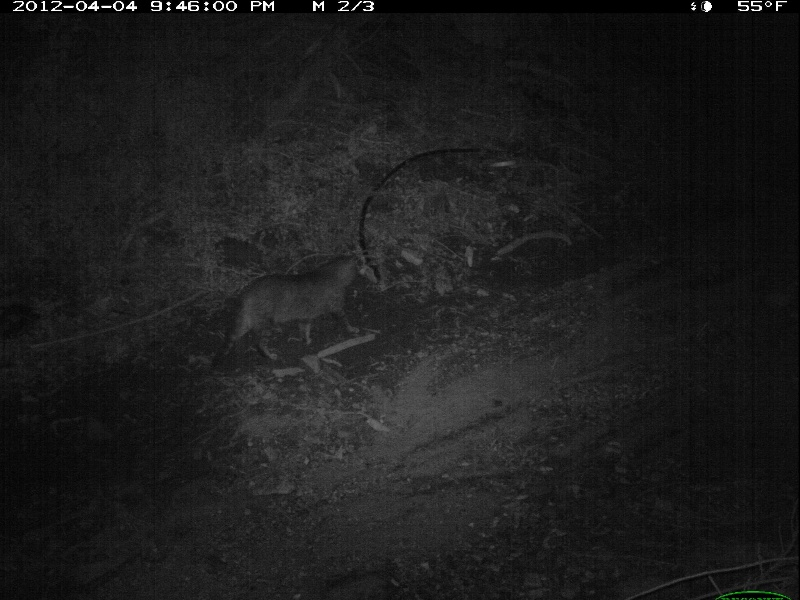cat: (213, 247, 368, 377)
